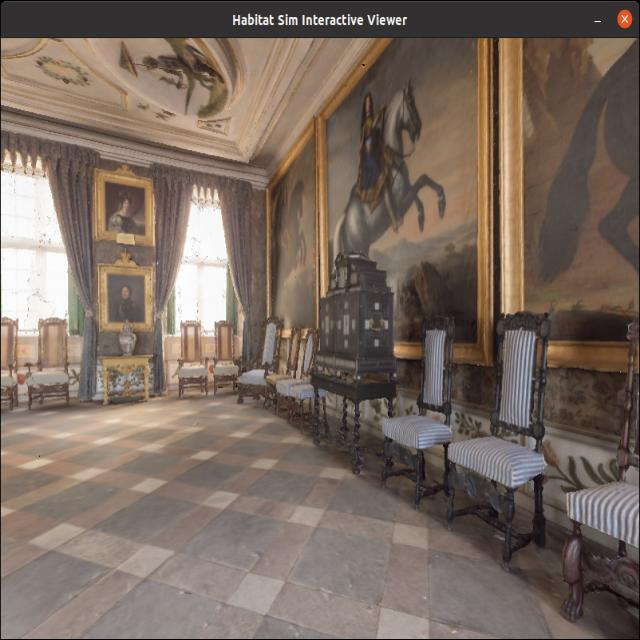chair: (445, 297, 567, 563), (384, 326, 460, 510), (269, 325, 326, 434), (23, 315, 76, 421), (210, 309, 242, 408), (178, 315, 208, 404)
